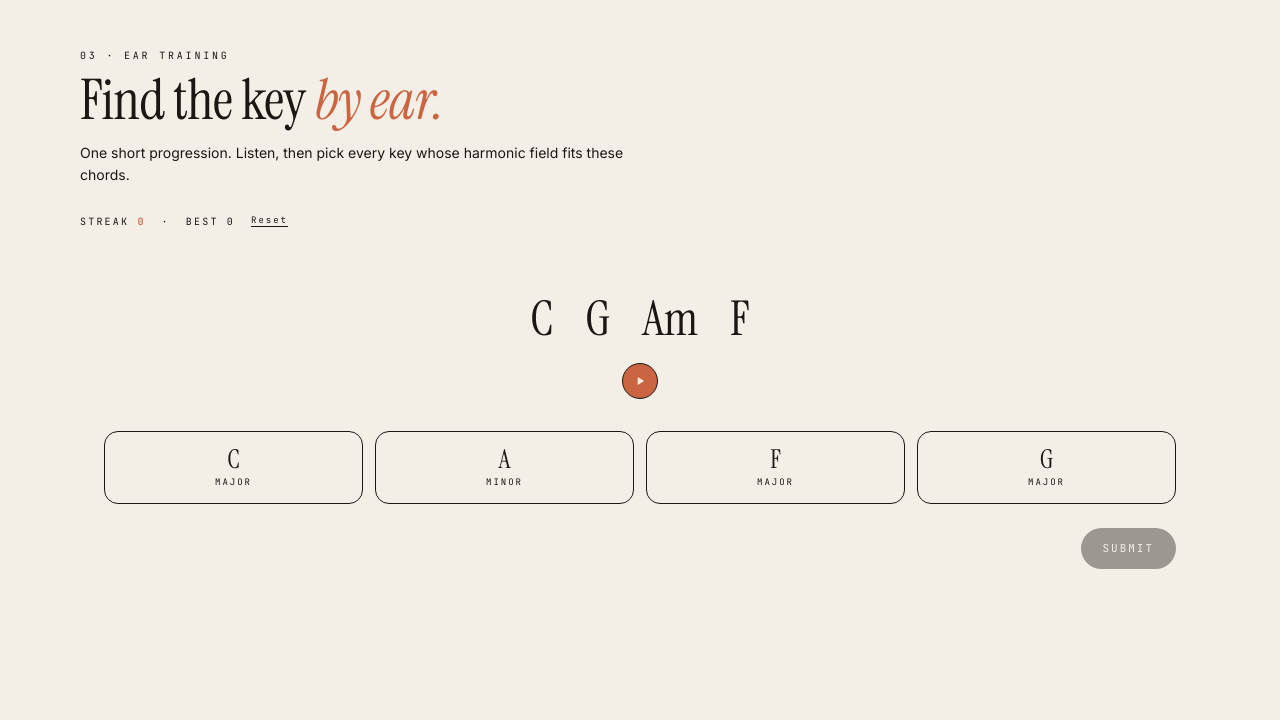
Test case: EarTrainingView › Wrong submit shows Not quite, names the offending chord, and breaks the streak
What coordinates should you click on to do the following:
click the button "C Major"
I would click on:
 (234, 467)
Its box is x1=104 y1=431 x2=363 y2=504.
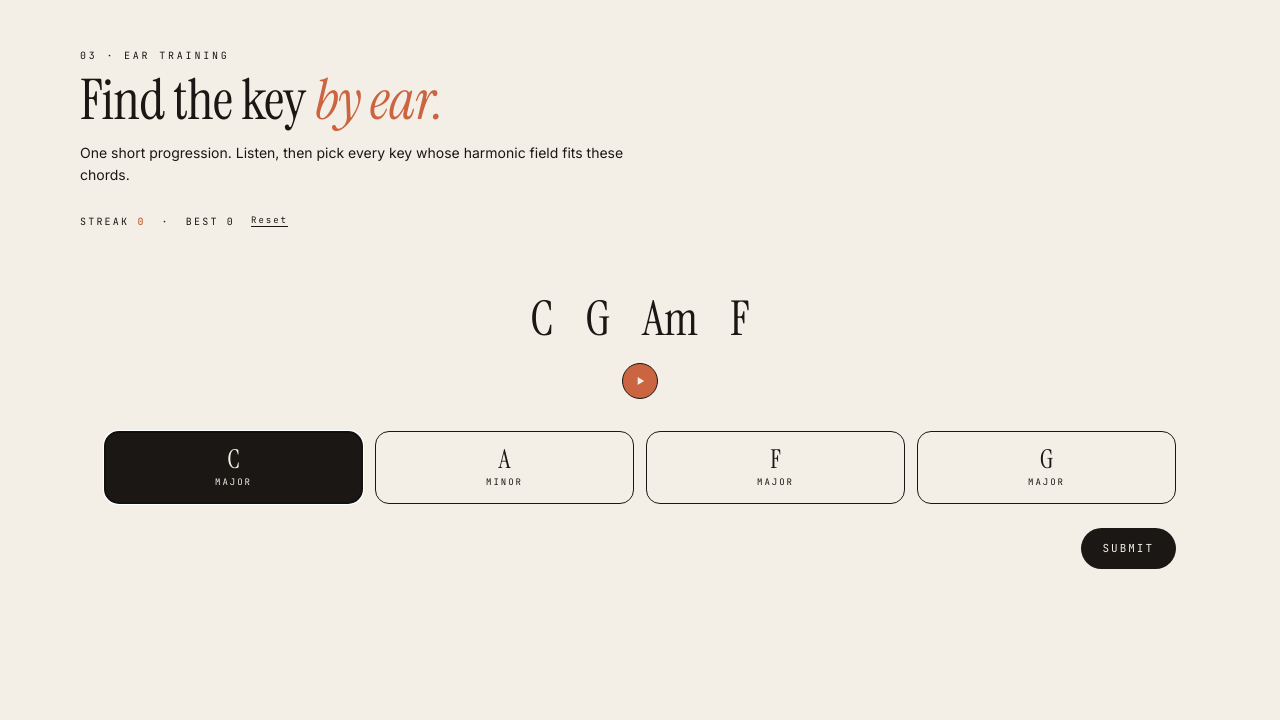
What coordinates should you click on to do the following:
click the button "F Major"
I would click on:
 (776, 467)
Its box is x1=646 y1=431 x2=905 y2=504.
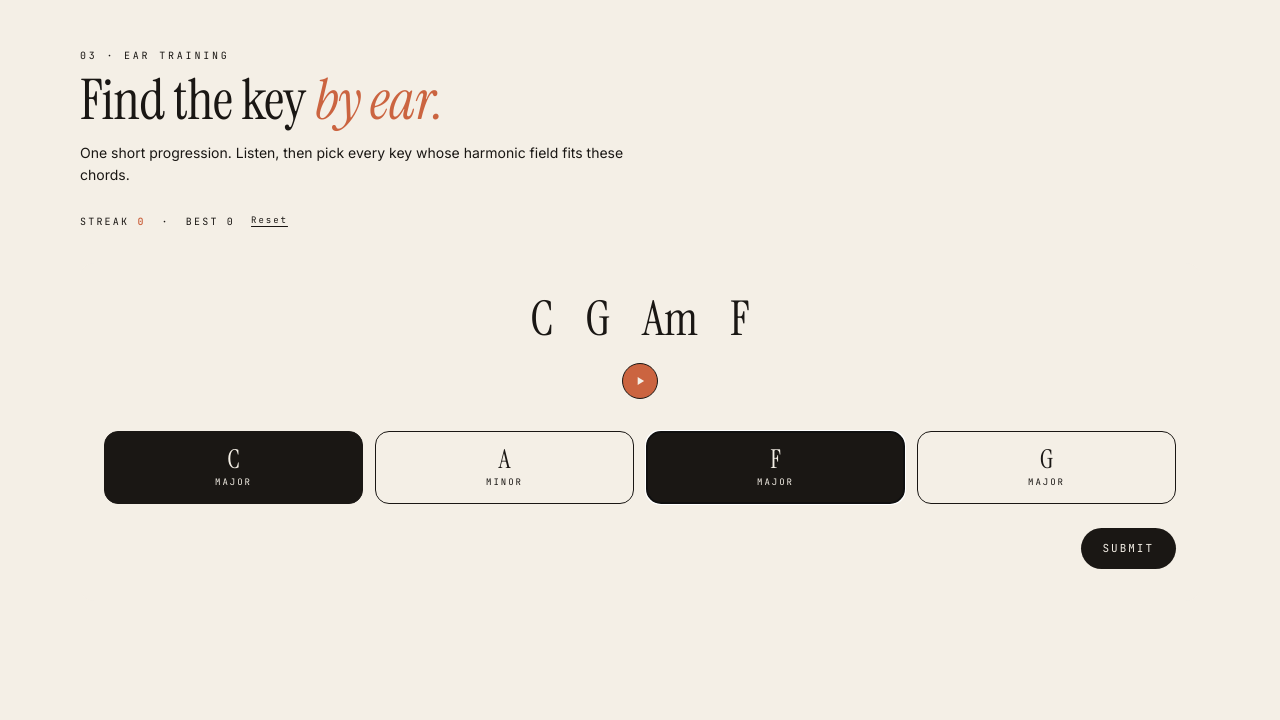
What coordinates should you click on to do the following:
click the button "Submit"
I would click on:
 (1128, 548)
Its box is x1=1080 y1=528 x2=1176 y2=569.
(page scrolled)
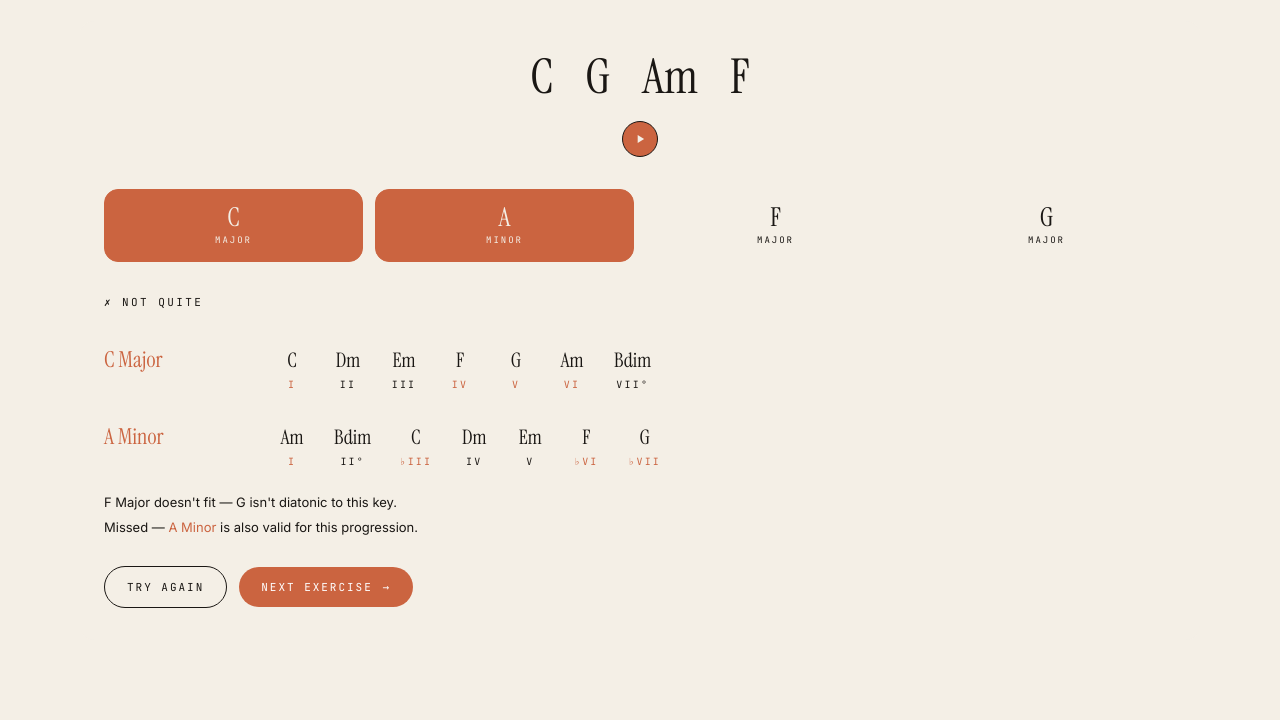
Result: the text "✗ Not quite" is shown at x1=104 y1=295 x2=203 y2=309
Result: the text "F Major doesn't fit — G isn't diatonic to this key." is shown at x1=104 y1=494 x2=397 y2=510
